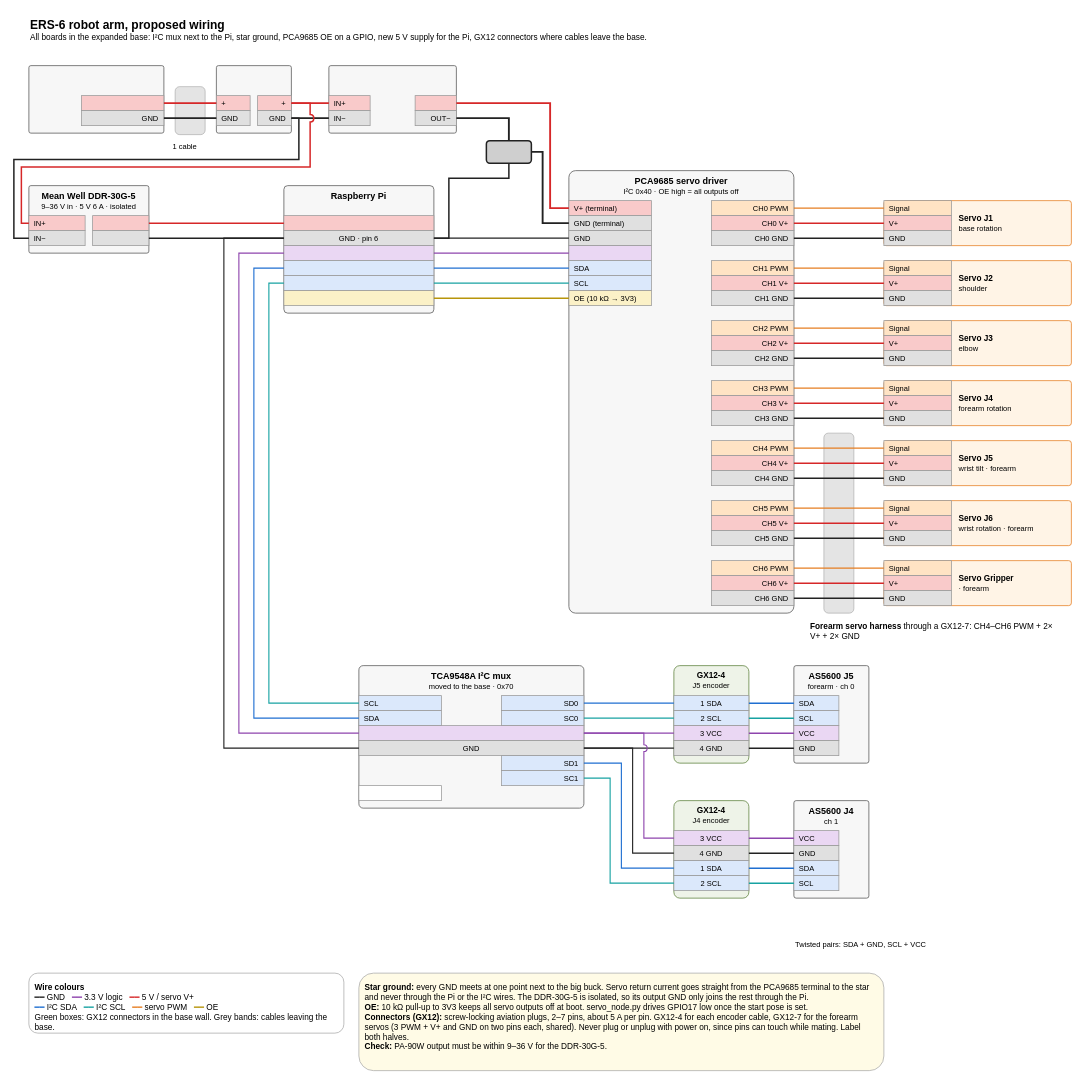
The diagram is 1085 pixels wide and 1084 high, and some of its shapes have lost their labels. The box of each missing label's shape, as (x1, y1, x2, y2) in pixels:
+V (set 5.1 V): (92, 215, 149, 231)
+V out: (81, 95, 164, 111)
3V3 · pin 1: (283, 245, 434, 261)
5 V in: (283, 215, 434, 231)
Big buck converter servo supply, unchanged: (328, 65, 456, 133)
GND star: (485, 140, 532, 164)
GPIO17 · pin 11: (283, 290, 434, 306)
OUT+: (414, 95, 456, 111)
PA-90W servo supply: (28, 65, 164, 133)
Ring connection base: (216, 65, 291, 133)
RST, A0–A2 n.c.: (358, 785, 441, 801)
SCL · GPIO3 · pin 5: (283, 275, 434, 291)
SDA · GPIO2 · pin 3: (283, 260, 434, 276)
VCC (3V3): (568, 245, 651, 261)
VIN (3V3): (358, 725, 584, 741)
−V: (92, 230, 149, 246)
